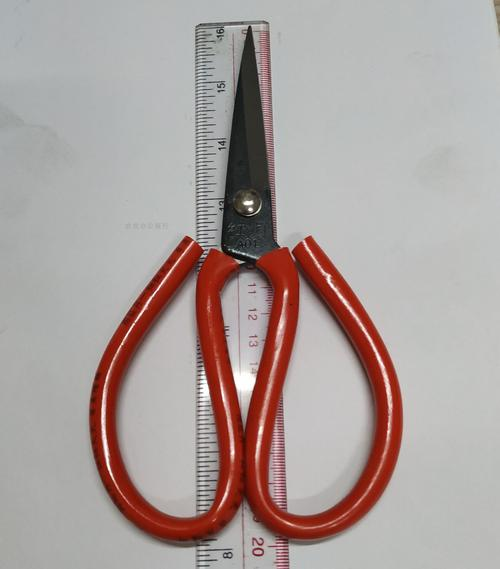scissor: (89, 24, 405, 542)
